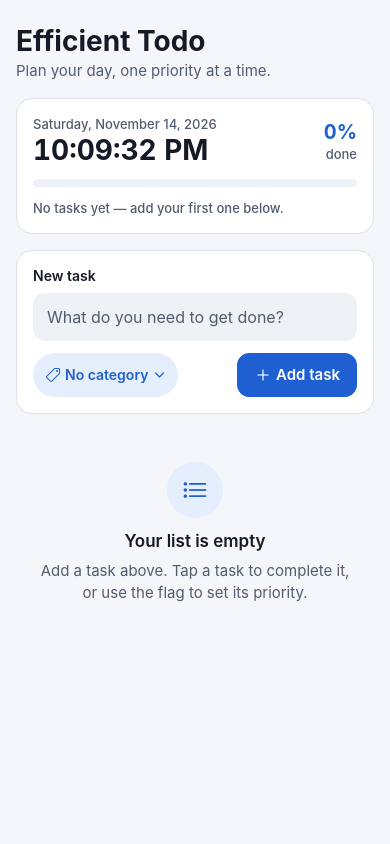
App › changes priority through the priority dialog
Expected: the text "Your list is empty" is shown, x1=124 y1=530 x2=266 y2=552
In the field named "New task": (195, 317) x1=33 y1=293 x2=357 y2=341, type "Pay rent"
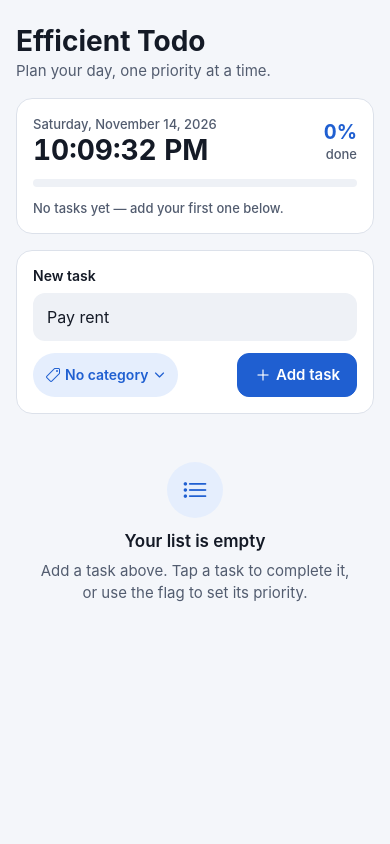
Click the button "Add task": click(297, 375) x1=237 y1=353 x2=357 y2=397
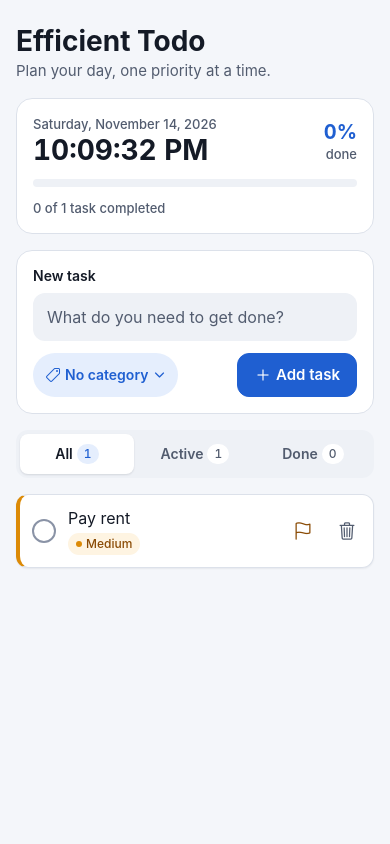
Click the button named "Change priority of “Pay rent”": click(303, 531) x1=281 y1=509 x2=325 y2=553
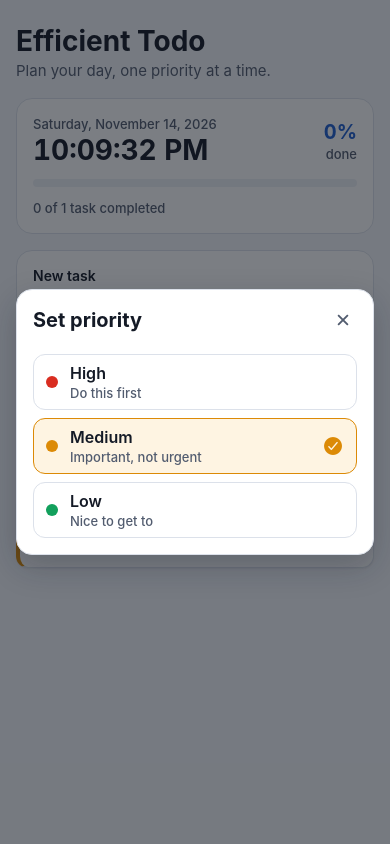
Click the radio button with aria-label "High priority": click(195, 382) x1=33 y1=354 x2=357 y2=410
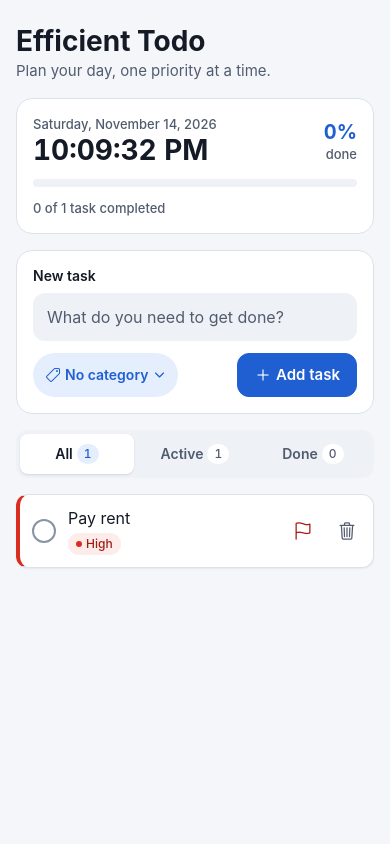
Result: the text "High" is shown at x1=86 y1=535 x2=113 y2=553
